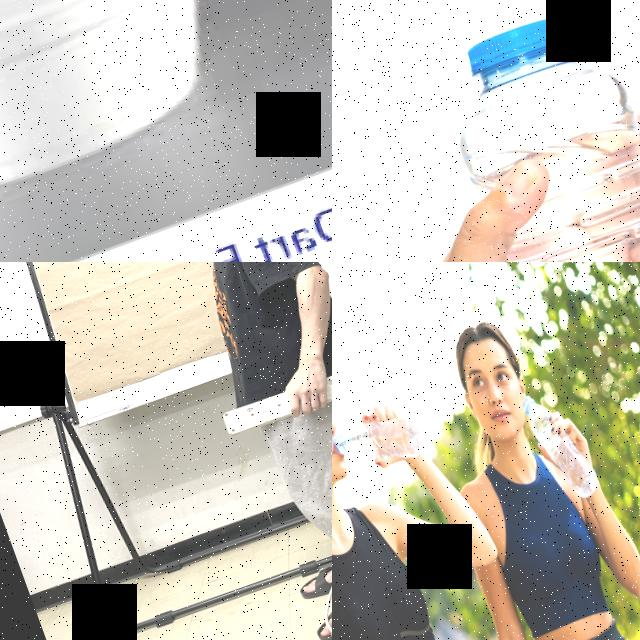bottle: (425, 5, 640, 262), (515, 378, 605, 509), (332, 404, 428, 482)
